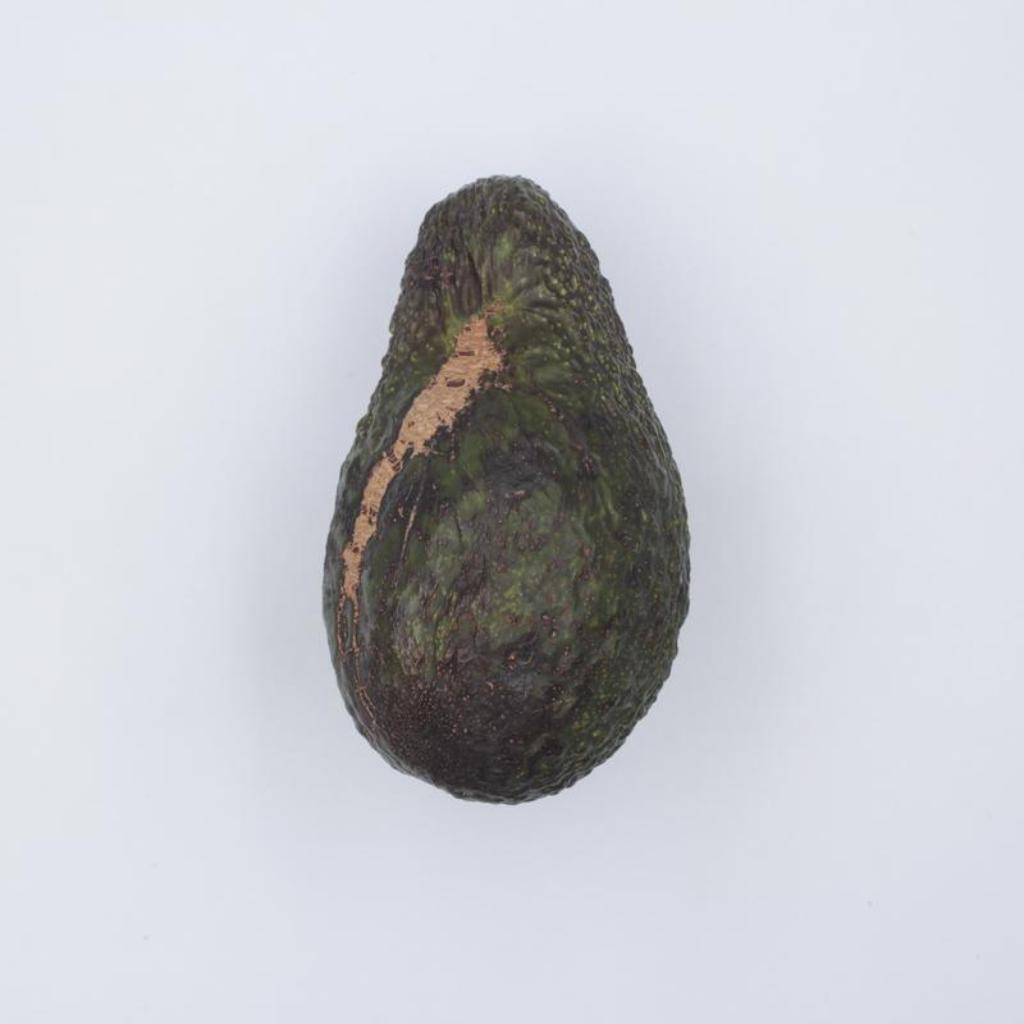scab: (323, 177, 687, 803)
